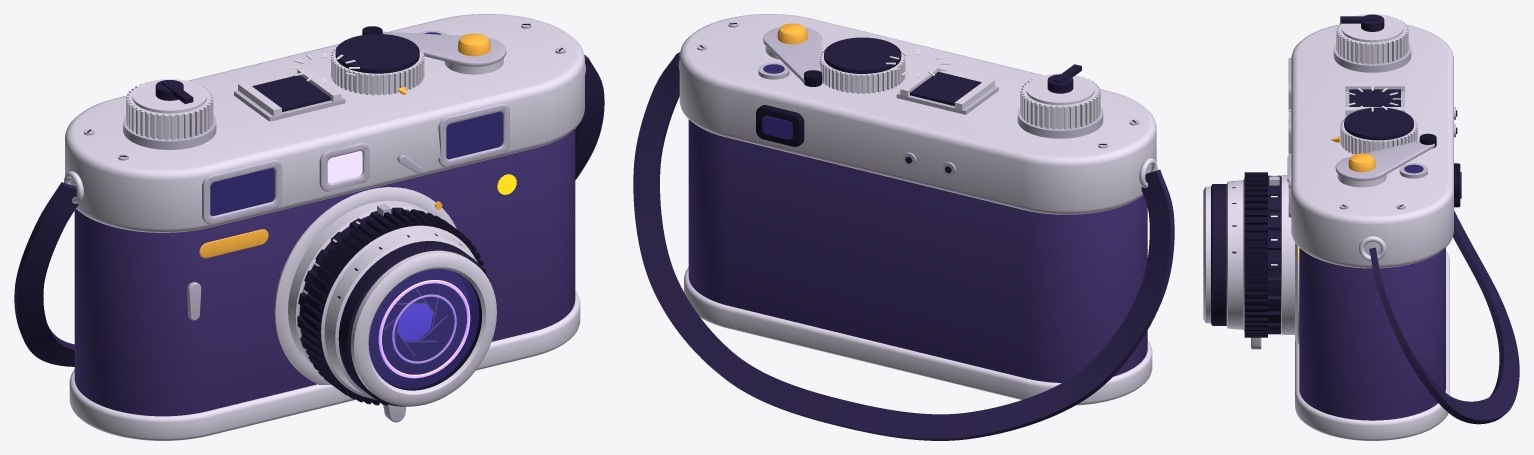
The model's file is camera-vintage.glb.
3 views of the same model, side by side, from view 1: azimuth 30°, elevation 25°; view 2: azimuth 150°, elevation 25°; view 3: azimuth 270°, elevation 25° (orthographic). The views are drawn at different scales.
Parts seen in each view (by area): view 1: camera_vintage_chrome, camera_vintage_Leather, camera_vintage_chrome_satin, camera_vintage_glass, camera_vintage_enamel, camera_vintage_strap, camera_vintage_rubber, camera_vintage_iris, camera_vintage_viewfinder, camera_vintage_gold, camera_vintage_lens_glint, camera_vintage_glass_inner (+1 smaller); view 2: camera_vintage_Leather, camera_vintage_chrome, camera_vintage_strap, camera_vintage_enamel, camera_vintage_chrome_satin, camera_vintage_rubber, camera_vintage_viewfinder, camera_vintage_gold; view 3: camera_vintage_chrome, camera_vintage_Leather, camera_vintage_enamel, camera_vintage_strap, camera_vintage_rubber, camera_vintage_chrome_satin, camera_vintage_gold.
Part boxes in pixels (left/top/right/bottom): camera_vintage_chrome: left=64, top=14, right=585, bottom=440; camera_vintage_Leather: left=74, top=129, right=575, bottom=416; camera_vintage_chrome_satin: left=83, top=22, right=565, bottom=422; camera_vintage_glass: left=369, top=269, right=478, bottom=388; camera_vintage_enamel: left=87, top=24, right=562, bottom=406; camera_vintage_strap: left=14, top=55, right=604, bottom=366; camera_vintage_rubber: left=301, top=26, right=486, bottom=405; camera_vintage_iris: left=368, top=269, right=470, bottom=381; camera_vintage_viewfinder: left=210, top=32, right=502, bottom=216; camera_vintage_gold: left=199, top=33, right=490, bottom=258; camera_vintage_lens_glint: left=378, top=280, right=470, bottom=378; camera_vintage_glass_inner: left=397, top=304, right=432, bottom=340; camera_vintage_Leather: left=688, top=119, right=1147, bottom=382; camera_vintage_chrome: left=678, top=14, right=1157, bottom=405; camera_vintage_strap: left=633, top=52, right=1174, bottom=440; camera_vintage_enamel: left=700, top=23, right=1136, bottom=173; camera_vintage_chrome_satin: left=697, top=22, right=1139, bottom=175; camera_vintage_rubber: left=756, top=70, right=822, bottom=146; camera_vintage_viewfinder: left=762, top=64, right=792, bottom=139; camera_vintage_gold: left=777, top=23, right=807, bottom=44; camera_vintage_chrome: left=1203, top=14, right=1453, bottom=440; camera_vintage_Leather: left=1299, top=247, right=1445, bottom=420; camera_vintage_enamel: left=1211, top=14, right=1457, bottom=334; camera_vintage_strap: left=1369, top=210, right=1519, bottom=424; camera_vintage_rubber: left=1244, top=133, right=1460, bottom=337; camera_vintage_chrome_satin: left=1251, top=44, right=1455, bottom=349; camera_vintage_gold: left=1331, top=136, right=1375, bottom=172.
Bounding box in the file's own units: 4.29 × 2.51 × 2.45.
